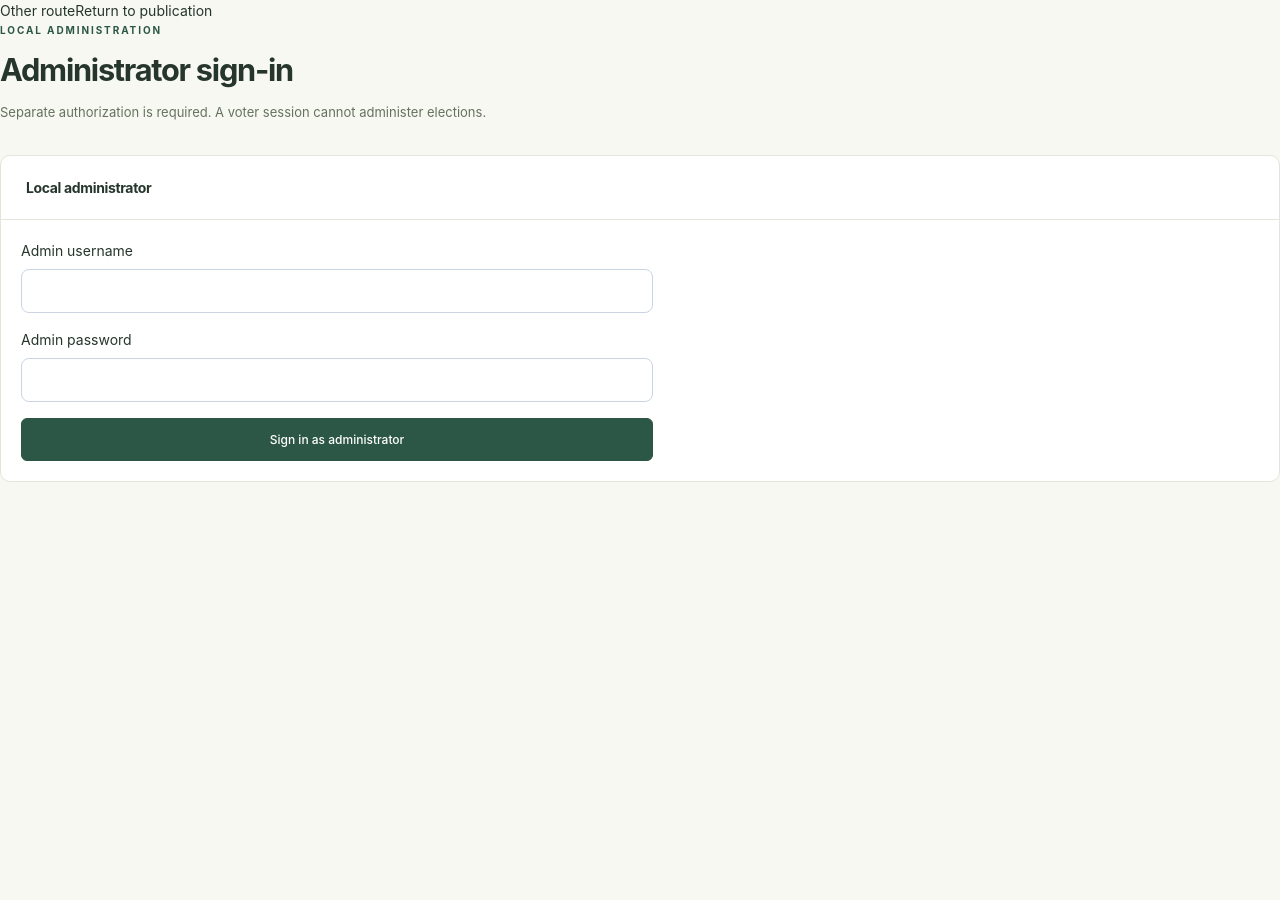
Test: shows disabled configuration and requires a TALLIED reconciled election
Expected: the button "Publish results" is not shown
Submit the form "Sign in as administrator", box [1,220,673,481]
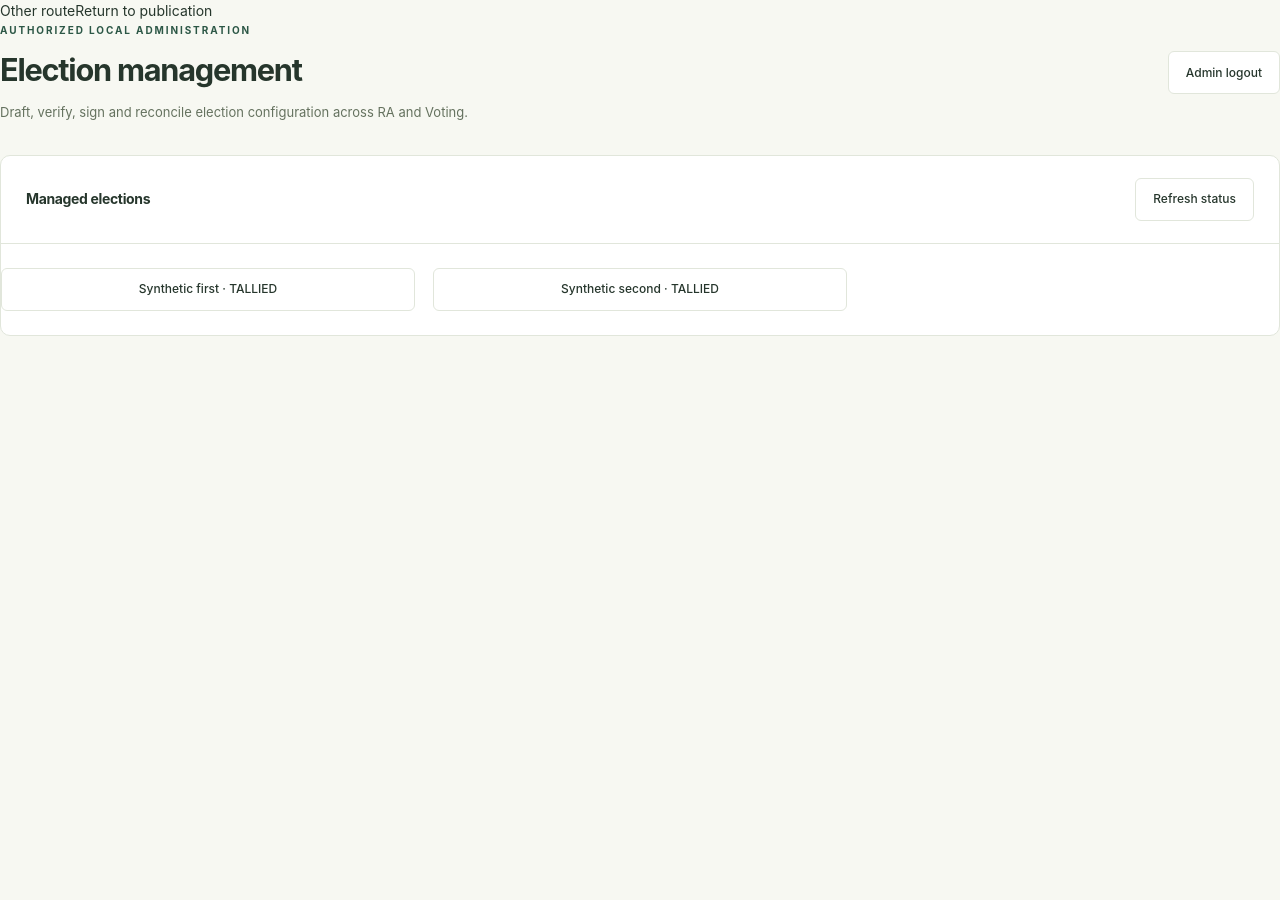
Click the button "Synthetic first · TALLIED" at (208, 289), box [1,268,415,311]
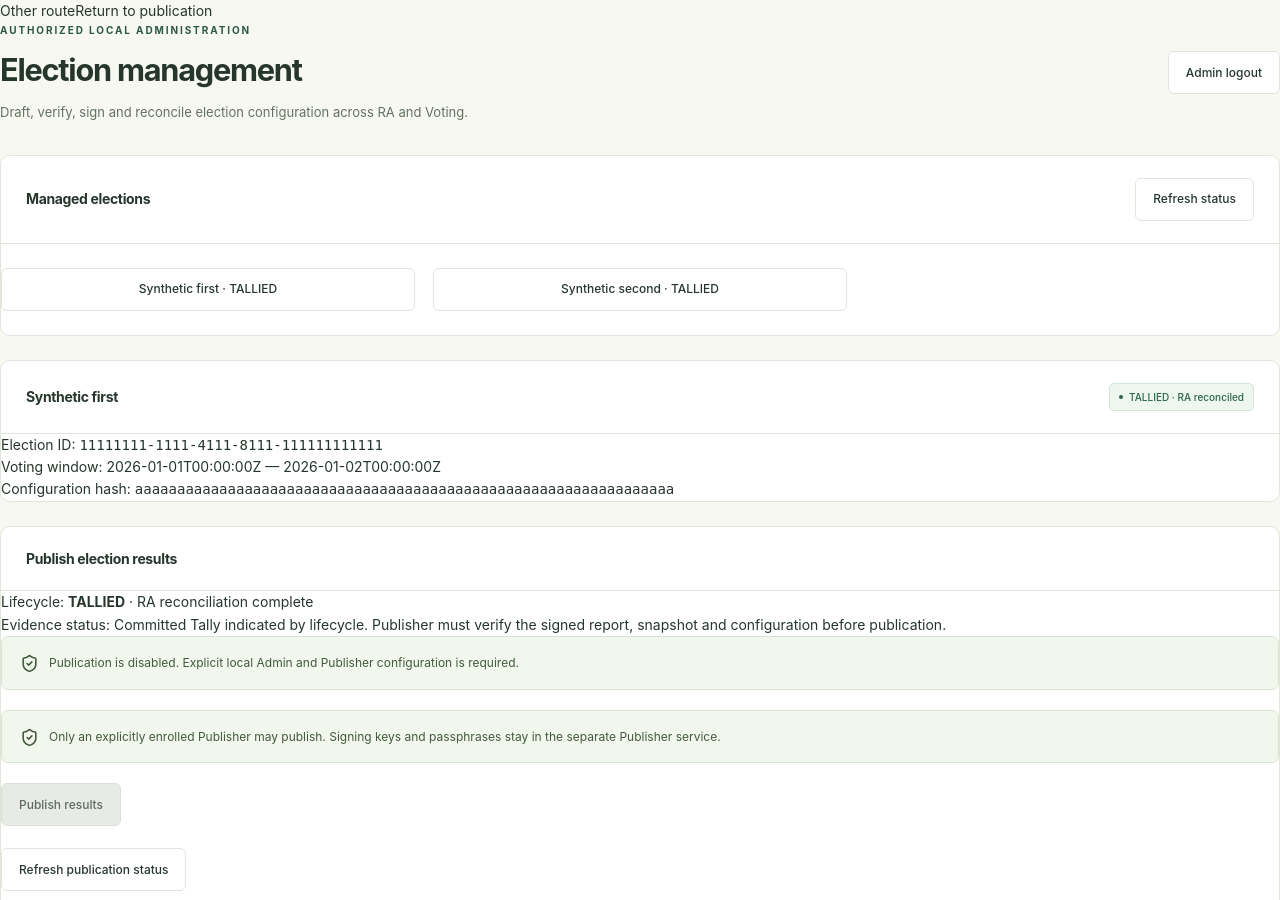
Now the heading "Publish election results" is shown, box [26,549,177,568]
Now the button "Refresh publication status" is enabled, box [1,848,186,891]
Now the button "Publish results" is disabled, box [1,783,121,826]
